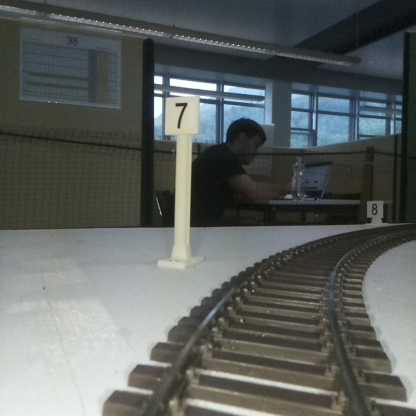white-info-7: (165, 97, 198, 266)
white-stop-8: (367, 200, 383, 223)
